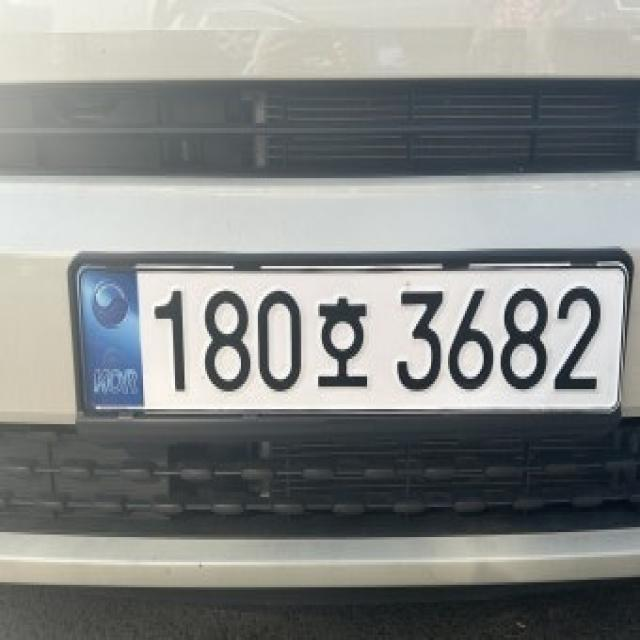car: (52, 215, 640, 461)
